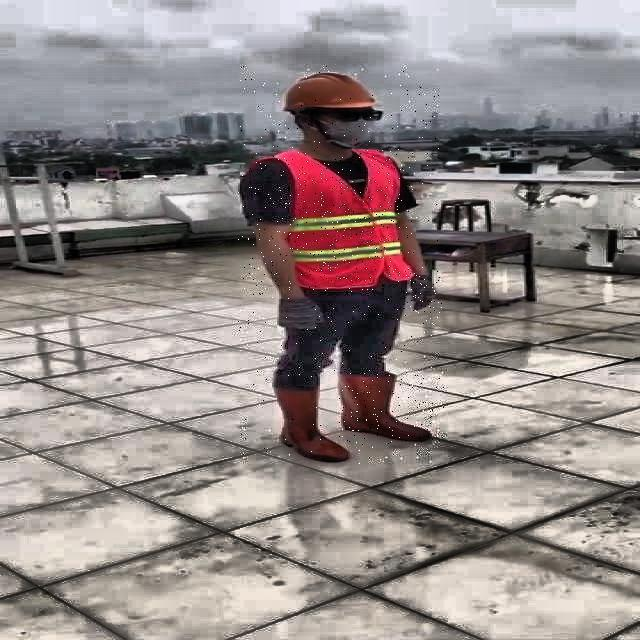safety_helmet: (277, 70, 379, 112)
safety_jacket: (248, 150, 414, 290)
